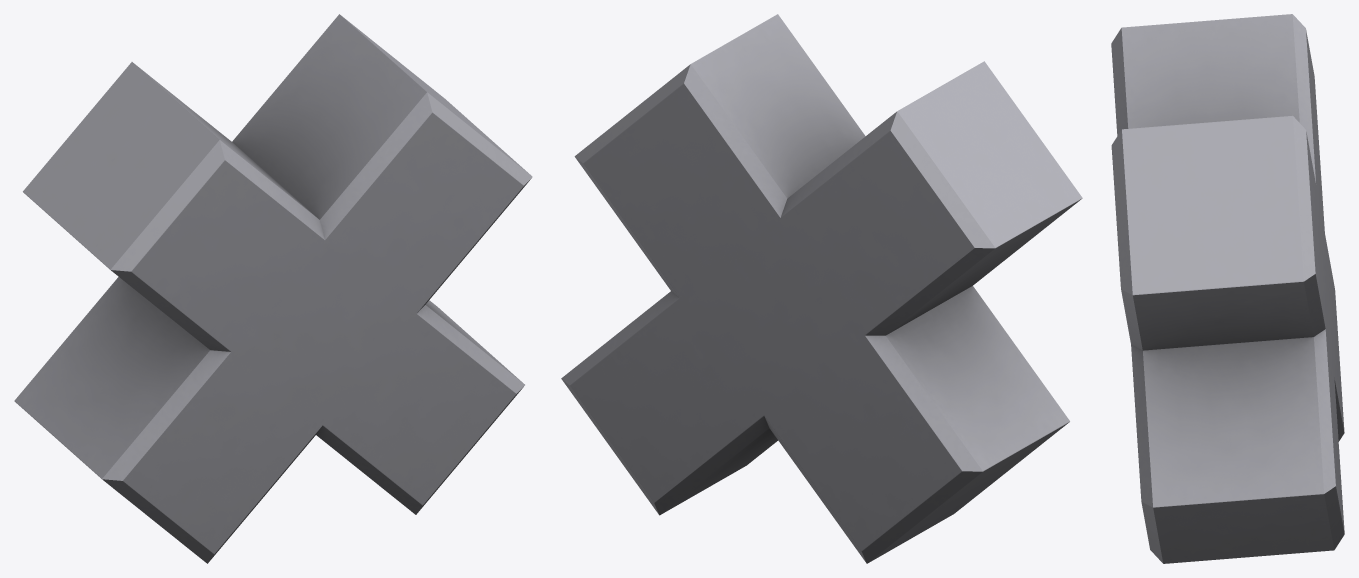
Rendered from Times.FBX.
The picture shows the model from 3 angles, left to right: view 1: azimuth 30°, elevation 25°; view 2: azimuth 150°, elevation 25°; view 3: azimuth 270°, elevation 25°; orthographic projection. The views are drawn at different scales.
Visible parts, largest first — view 1: times; view 2: times; view 3: times.
Boxes of the visible parts, box(x1,y1,x2,y2) form: times: box(14, 14, 532, 563); times: box(561, 14, 1082, 563); times: box(1111, 14, 1344, 563).
Size of the model in its own units: 80.98 by 83.2 by 39.44.
